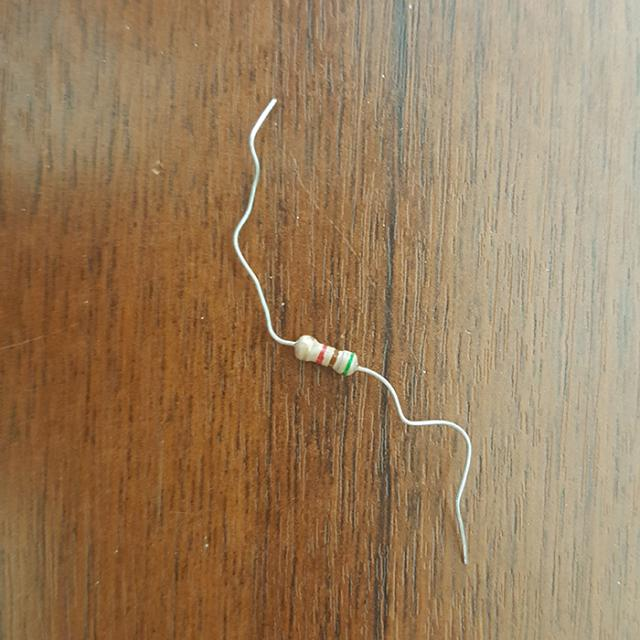brown: (328, 349, 338, 367)
gold: (302, 336, 312, 358)
green: (343, 353, 354, 374)
red: (317, 344, 328, 361)
resistor: (295, 330, 362, 385)
